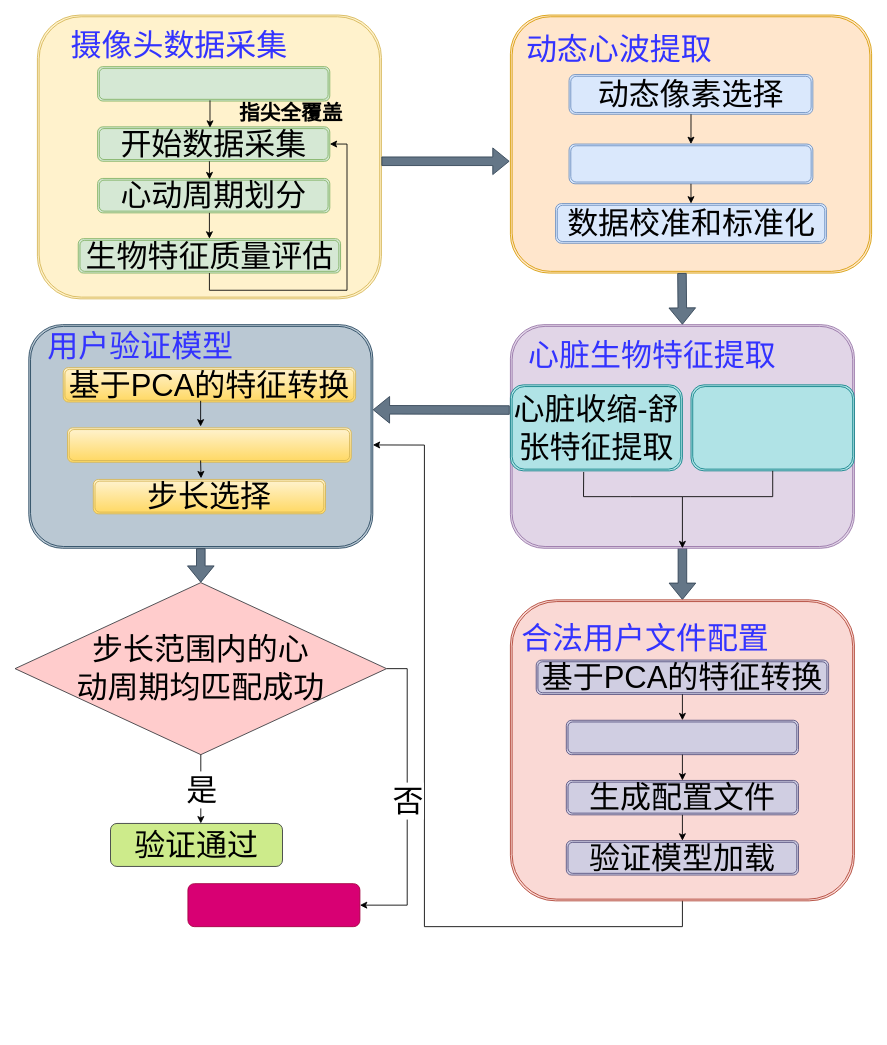
This 887x1045 diagram has some shape labels left out. The box of each missing label's shape, as (x1, y1, x2, y2) in pixels:
主成分筛选: (565, 719, 799, 755)
心波推导: (568, 143, 813, 184)
心脏非基准特征提取: (690, 384, 854, 471)
指尖按压检测: (97, 66, 330, 101)
距离计算与阈值匹配: (67, 427, 351, 462)
验证失败: (187, 883, 360, 927)
